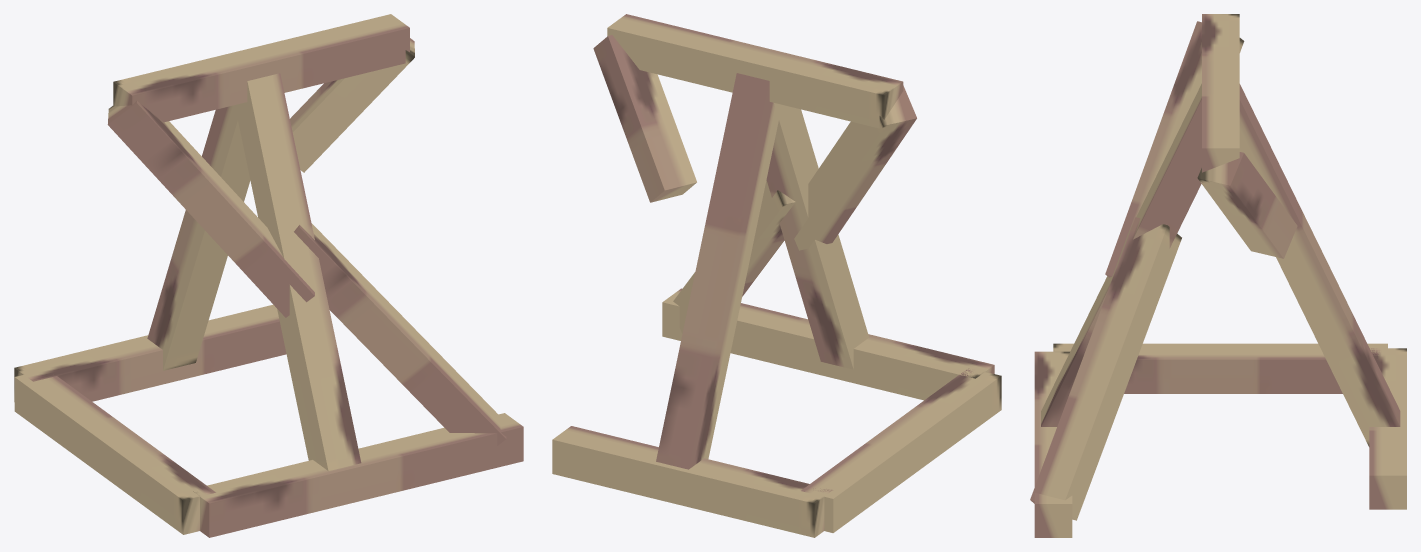
Rendered from Building_AncientCraneArmSmall.glb.
3 views of the same model, side by side, from view 1: azimuth 30°, elevation 25°; view 2: azimuth 150°, elevation 25°; view 3: azimuth 270°, elevation 25° (orthographic).
Parts seen in each view (by area): view 1: AncientCraneArmSmall; view 2: AncientCraneArmSmall; view 3: AncientCraneArmSmall.
Part boxes in pixels (x1=…): AncientCraneArmSmall: x1=14, y1=14, x2=523, y2=537; AncientCraneArmSmall: x1=552, y1=14, x2=1001, y2=537; AncientCraneArmSmall: x1=1030, y1=14, x2=1406, y2=537.
Size of the model in its own units: 0.905 by 0.99 by 0.9009.
1 material, 1 textured.
